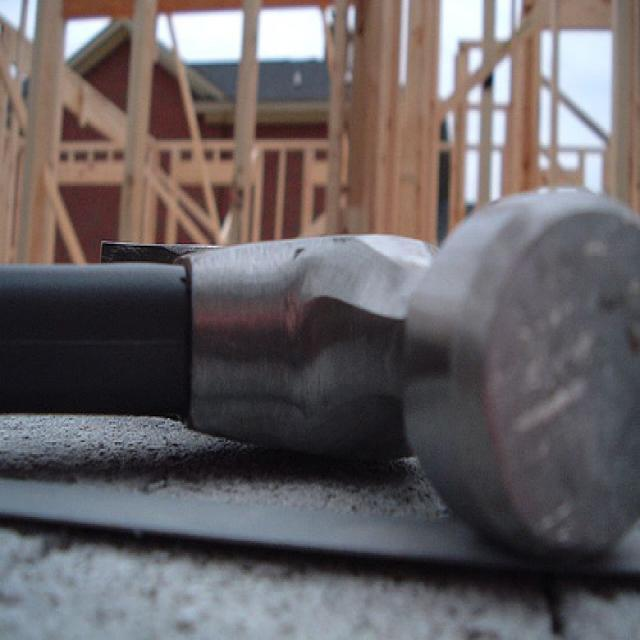hammer: (0, 202, 640, 572)
